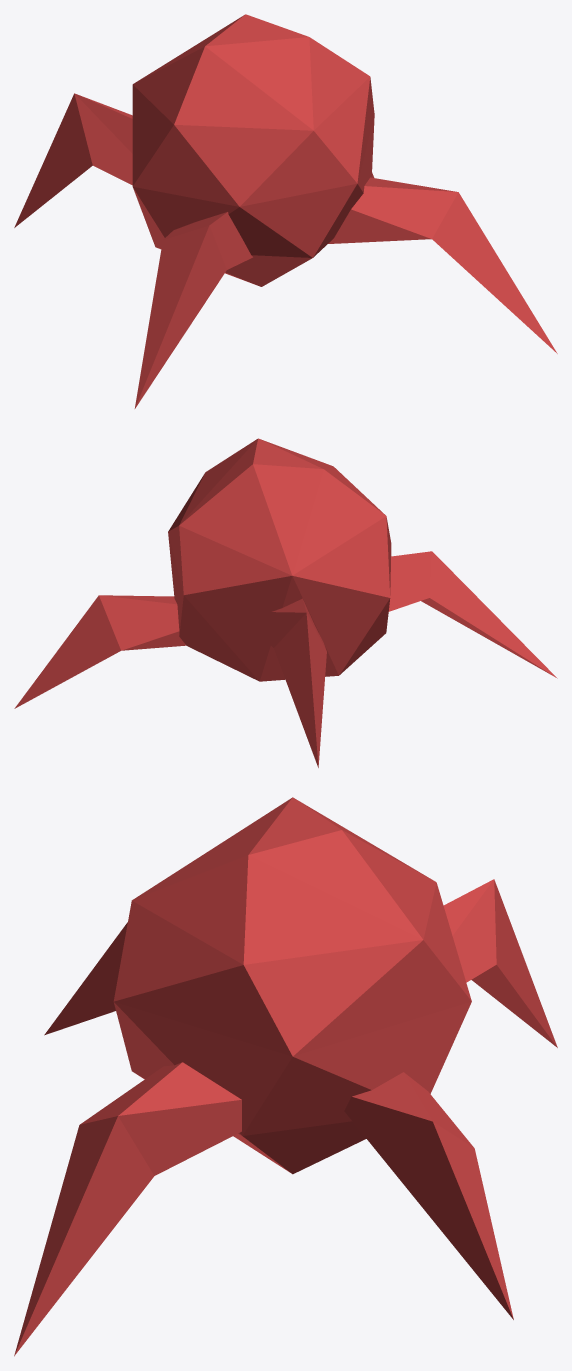
The model's file is enemy.fbx.
3 views of the same model, one above another, from view 1: azimuth 30°, elevation 25°; view 2: azimuth 150°, elevation 25°; view 3: azimuth 270°, elevation 25° (orthographic). The views are drawn at different scales.
Visible parts, largest first — view 1: Icosphere.001; view 2: Icosphere.001; view 3: Icosphere.001.
Boxes of the visible parts, x1=… form: Icosphere.001: x1=14, y1=14, x2=557, y2=408; Icosphere.001: x1=14, y1=438, x2=557, y2=767; Icosphere.001: x1=14, y1=797, x2=557, y2=1356.
Size of the model in its own units: 361 by 245 by 301.
